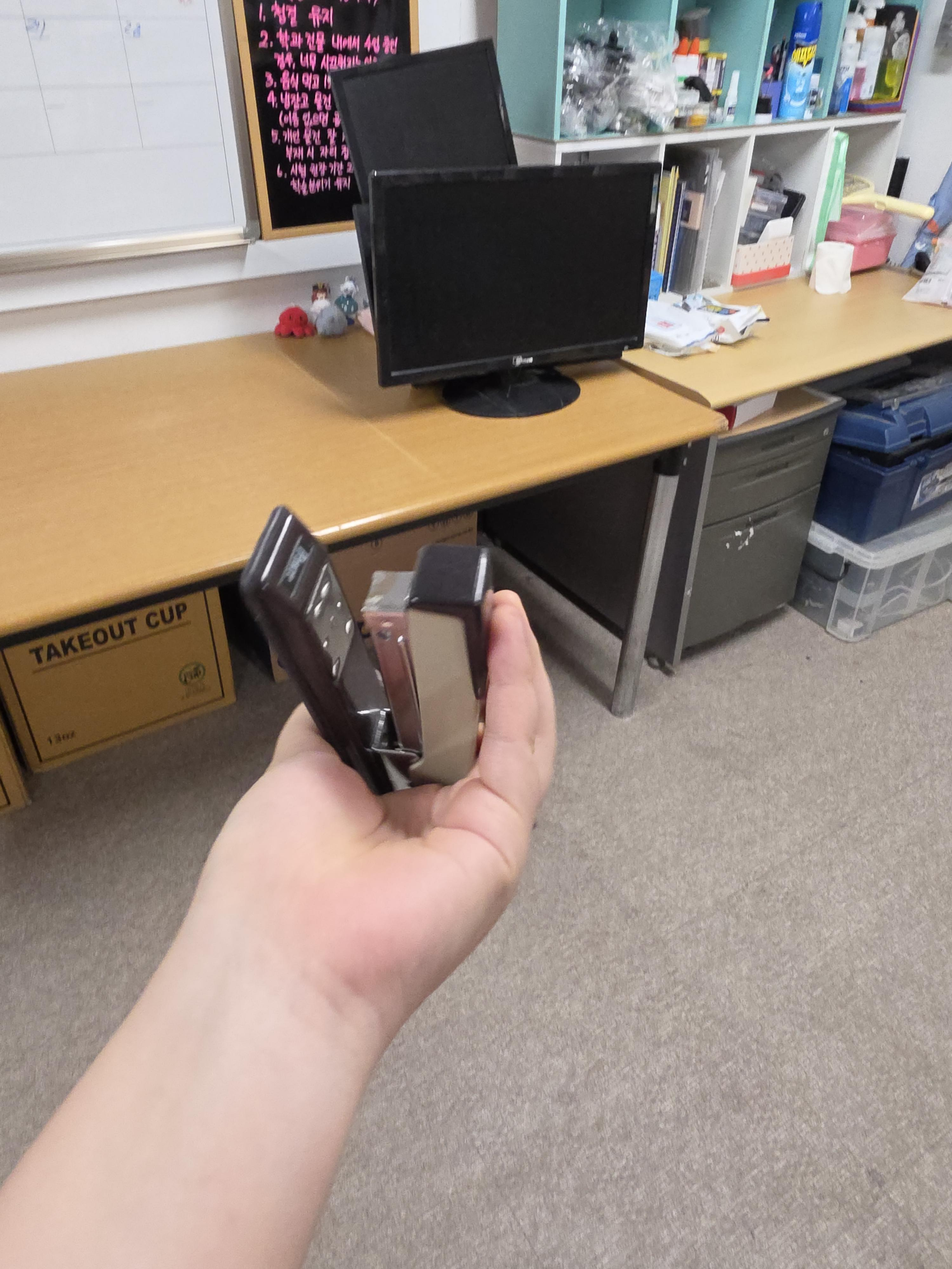stapler: (237, 504, 498, 796)
tissue: (729, 216, 797, 288), (810, 241, 855, 296)
